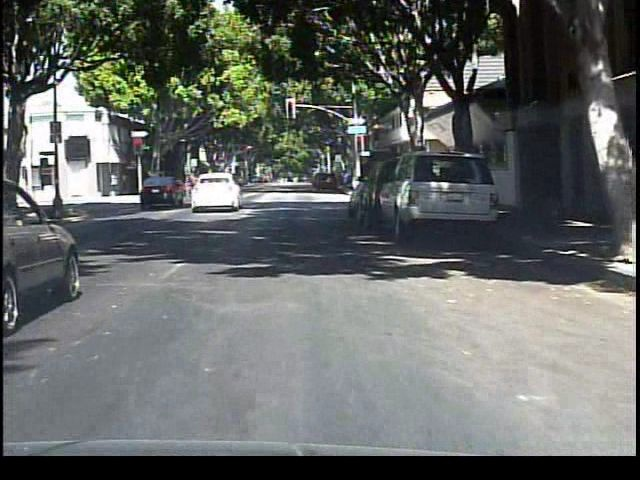person: (181, 167, 207, 206)
